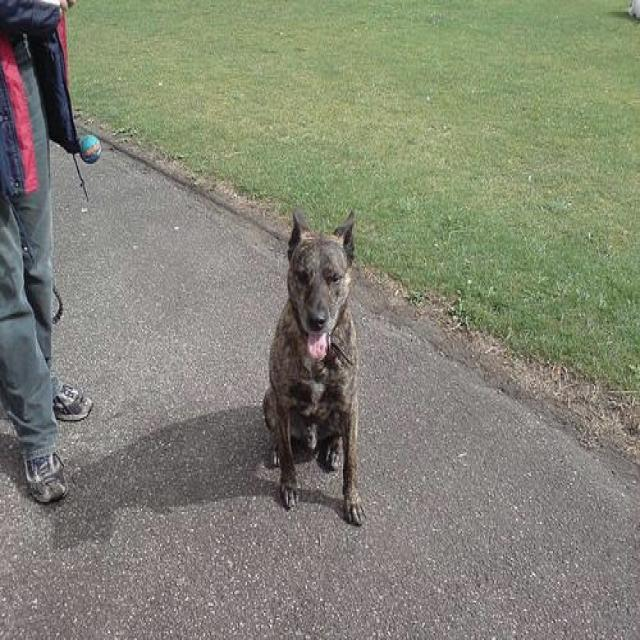staffordshire_bullterrier: (262, 205, 368, 524)
